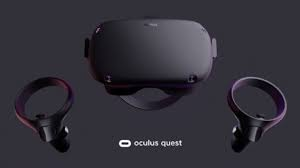oculus: (83, 18, 218, 99)
